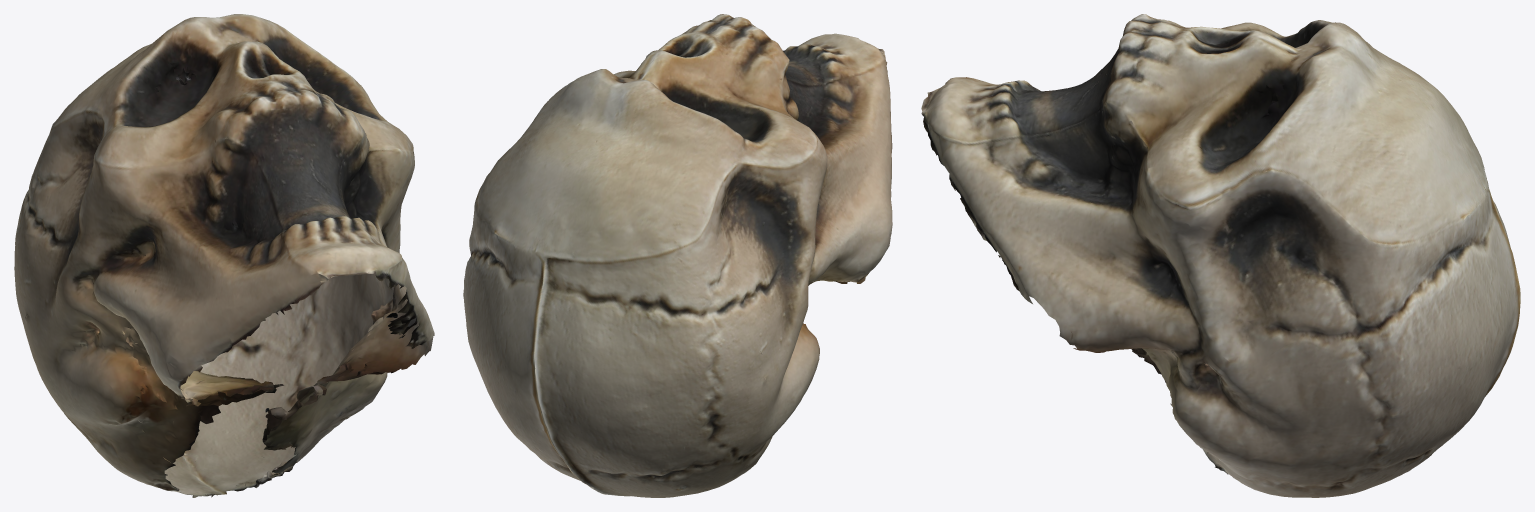
The model's file is skull_laugh.glb.
3 views of the same model, side by side, from view 1: azimuth 30°, elevation 25°; view 2: azimuth 150°, elevation 25°; view 3: azimuth 270°, elevation 25° (orthographic). The views are drawn at different scales.
Visible parts, largest first — view 1: mat-0; view 2: mat-0; view 3: mat-0.
Boxes of the visible parts, bbox=[...] form: mat-0: bbox=[14, 14, 434, 497]; mat-0: bbox=[463, 14, 892, 497]; mat-0: bbox=[921, 14, 1520, 497].
Bounding box in the file's own units: 1.92 × 2.57 × 3.05.
1 material, 1 textured.
